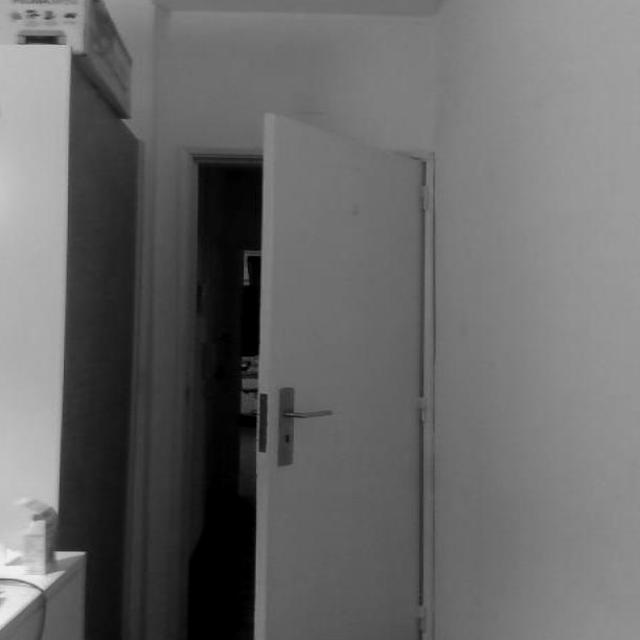door: (253, 111, 428, 639)
